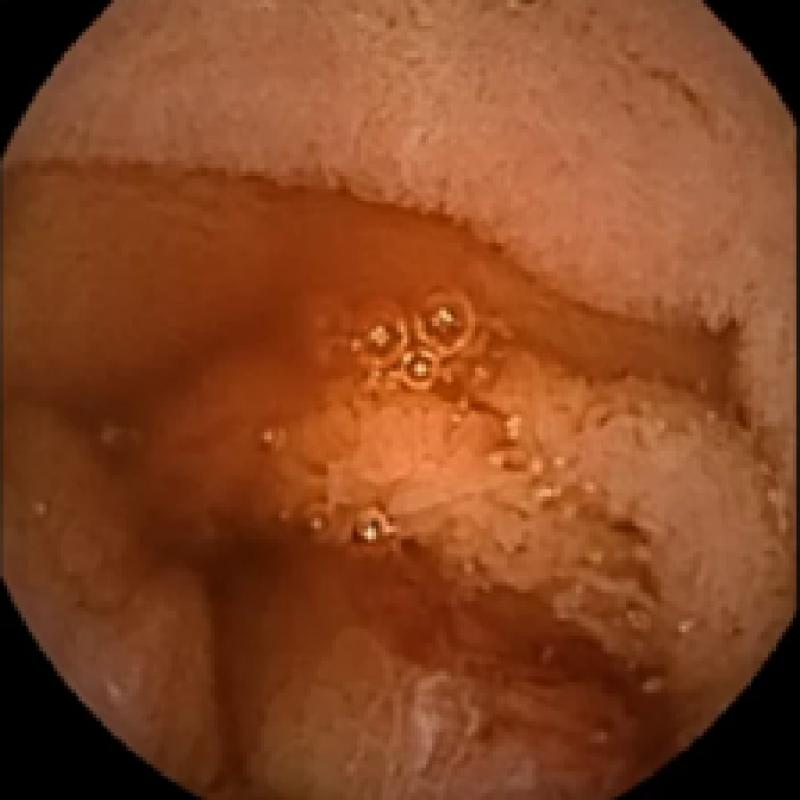bleeding: (154, 479, 707, 782)
